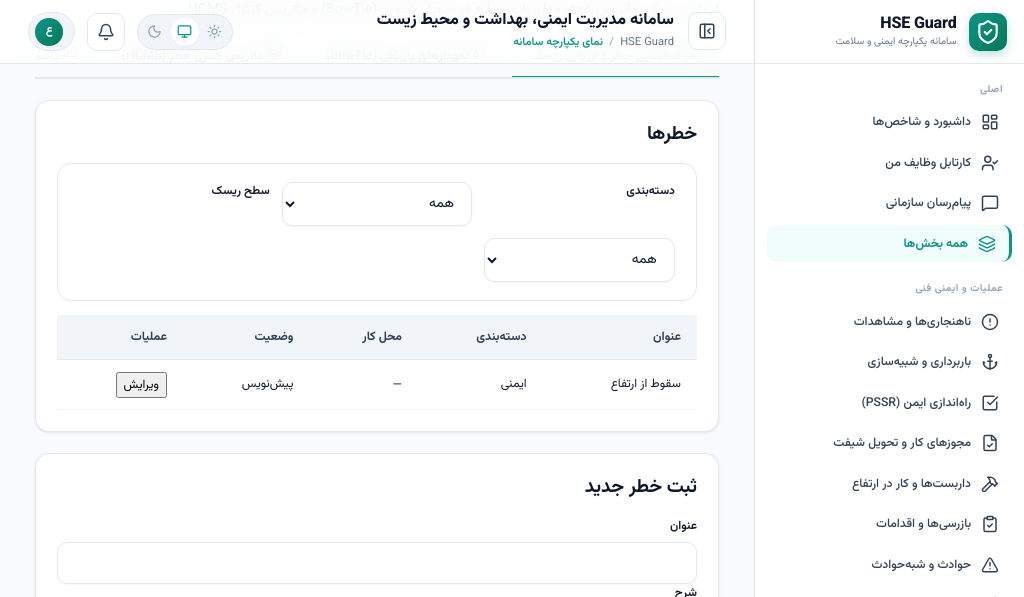
Test: Hazard form › edits an existing hazard
This screenshot has width=1024, height=597.
(page scrolled)
Click the button "ویرایش" at (141, 384), box left=116, top=372, right=167, bottom=398
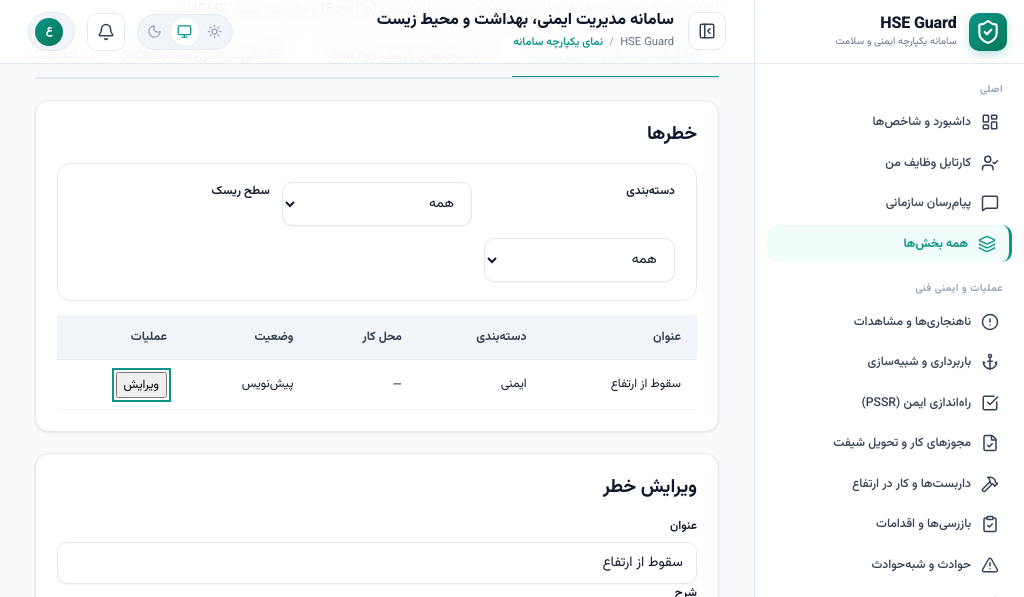
Replace the text in the field labelled "عنوان" with "عنوان ویرایش‌شده" at (377, 563), box left=57, top=542, right=697, bottom=584
(page scrolled)
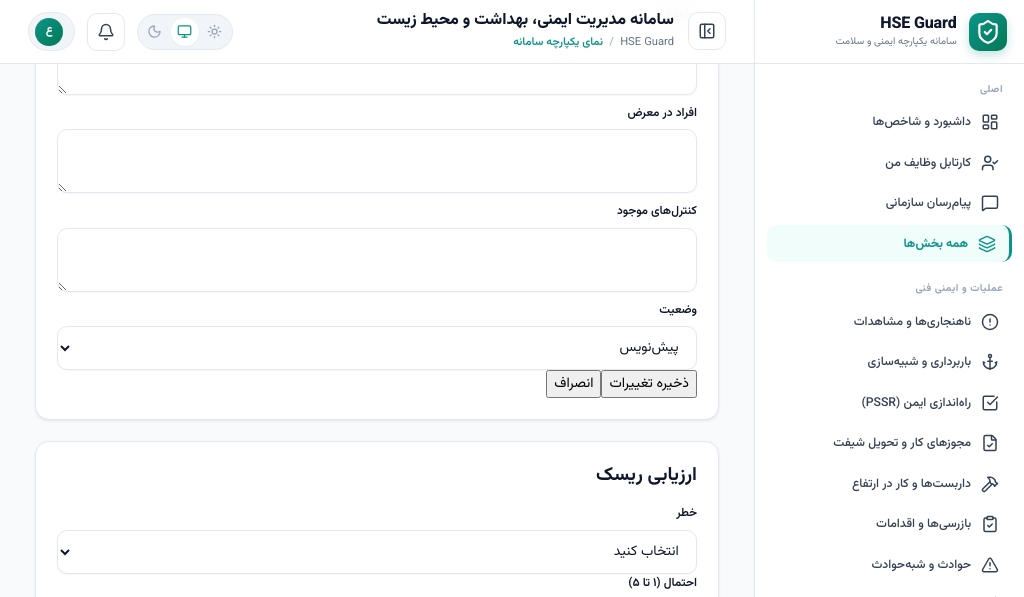
Click the button "ذخیره تغییرات" at (649, 384), box left=601, top=370, right=697, bottom=398
(page scrolled)
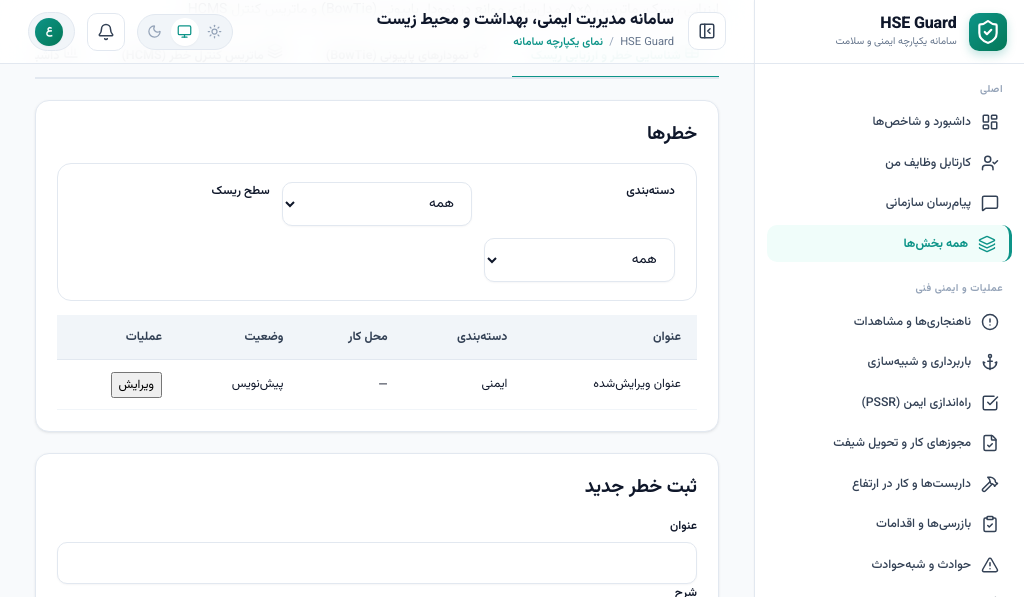
Check: the text "عنوان ویرایش‌شده" is shown, box left=524, top=359, right=697, bottom=410
